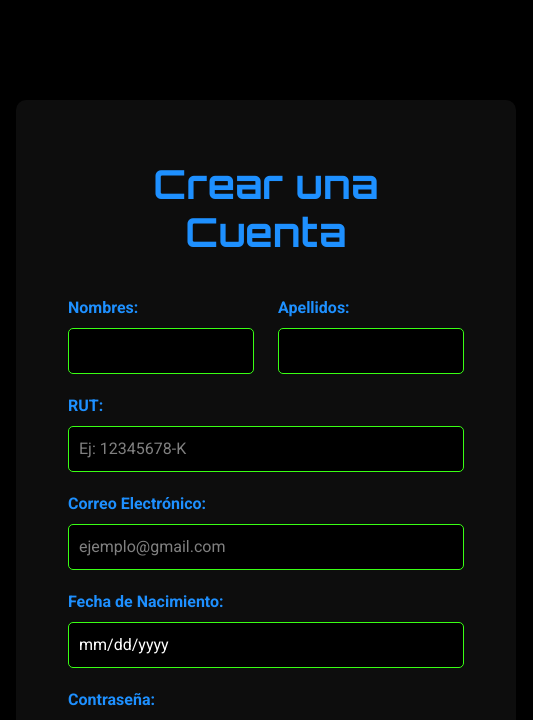
RegisterPage › muestra error si el correo es inválido
This screenshot has width=533, height=720.
In the field labelled "Nombres:": x=161, y=351 x1=68 y1=328 x2=254 y2=374, type "Test"
In the field labelled "Apellidos:": x=371, y=351 x1=278 y1=328 x2=464 y2=374, type "User"
In the field labelled "RUT:": x=266, y=449 x1=68 y1=426 x2=464 y2=472, type "12345678-9"
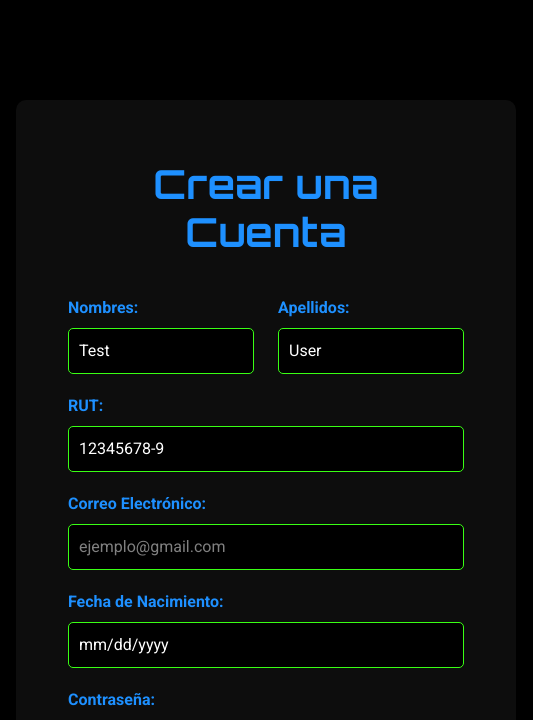
In the field labelled "Correo Electrónico:": x=266, y=547 x1=68 y1=524 x2=464 y2=570, type "test@gmail.com"
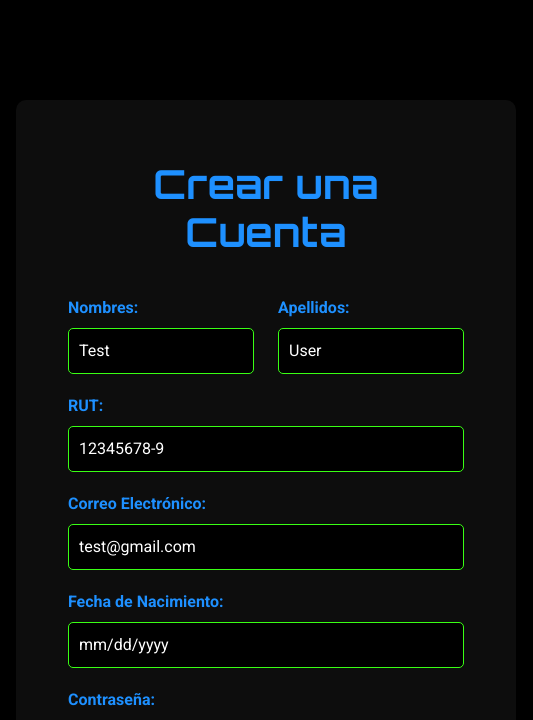
In the date field labelled "Fecha de Nacimiento:": x=266, y=645 x1=68 y1=622 x2=464 y2=668, type "2000-01-01"
(page scrolled)
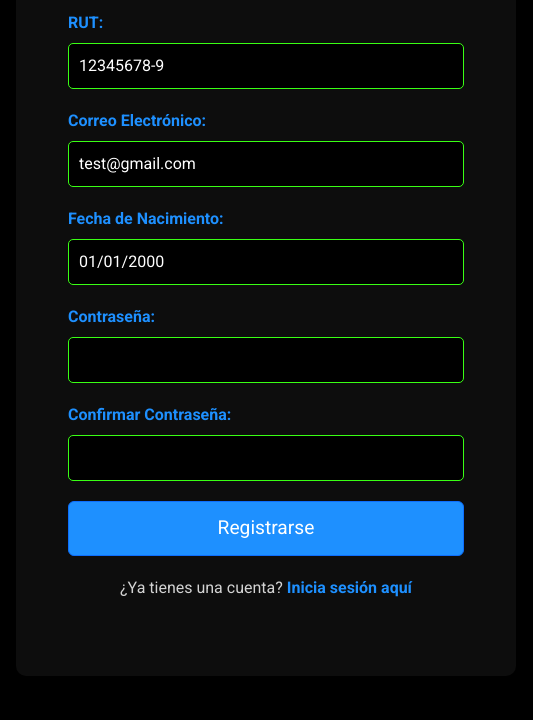
In the password field labelled "Contraseña:": x=266, y=360 x1=68 y1=337 x2=464 y2=383, type "password123"
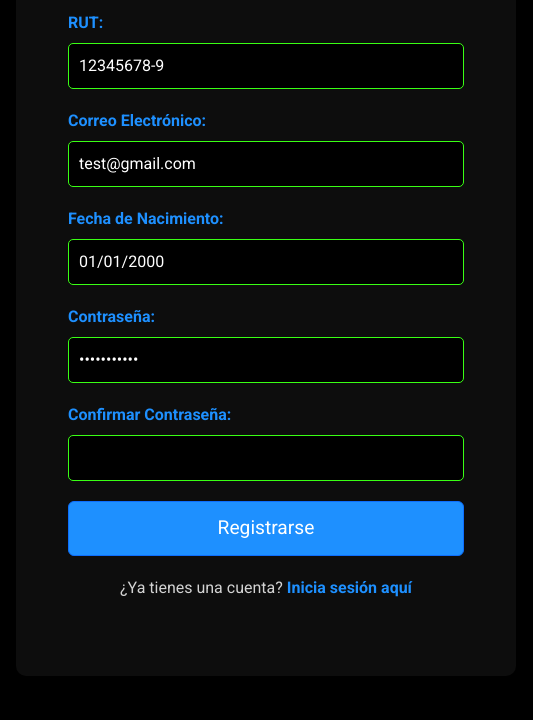
In the password field labelled "Confirmar Contraseña:": x=266, y=458 x1=68 y1=435 x2=464 y2=481, type "password123"
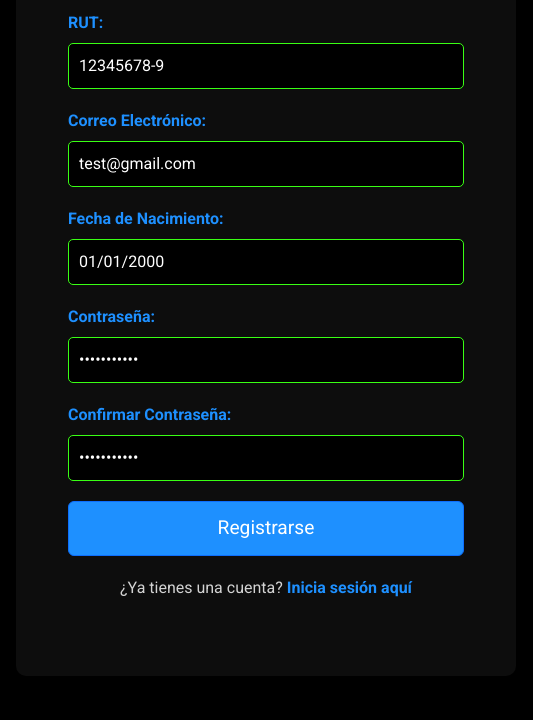
Click the button "Registrarse": x=266, y=528 x1=68 y1=501 x2=464 y2=556
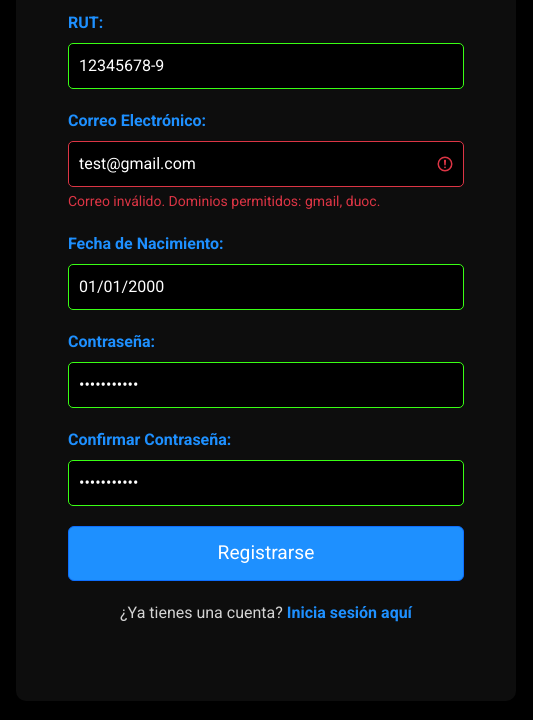
Check: the text "Correo inválido. Dominios permitidos: gmail, duoc." is shown, box x1=68 y1=193 x2=380 y2=209
